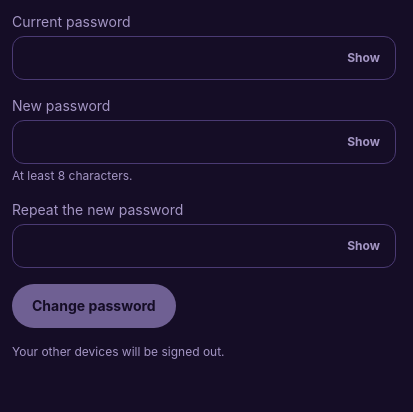
Scenario: PasswordForm › shows the API's reason when the current password is wrong
Type "nope" into the password field labelled "Current password". click: (204, 58)
box: [12,36,396,80]
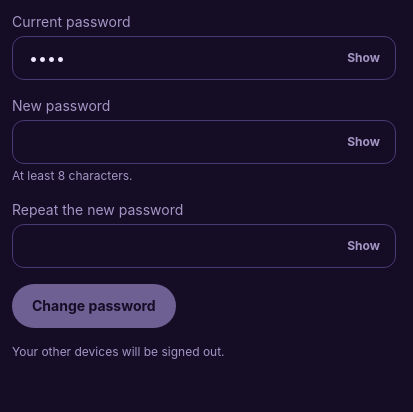
Type "a-brand-new-one" into the password field labelled "New password". click: (204, 142)
box: [12,120,396,164]
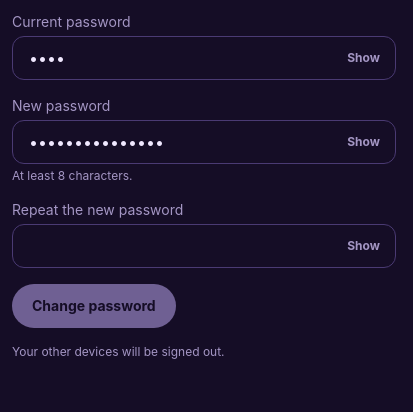
Type "a-brand-new-one" into the password field labelled "Repeat the new password". click: (204, 246)
box: [12,224,396,268]
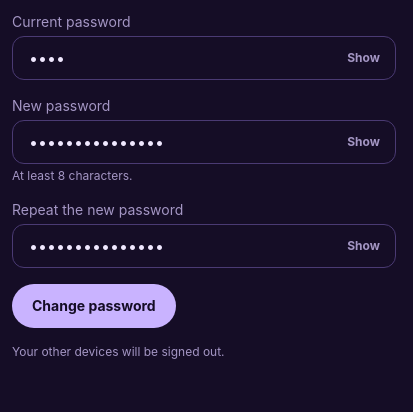
Click the button "Change password". click: click(94, 306)
box: [12,284,176,328]
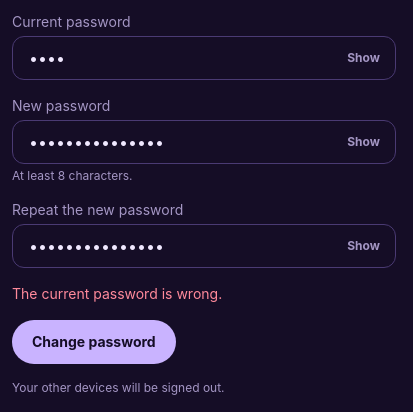
Check: the message reads "The current password is wrong.", box [12,285,222,302]
